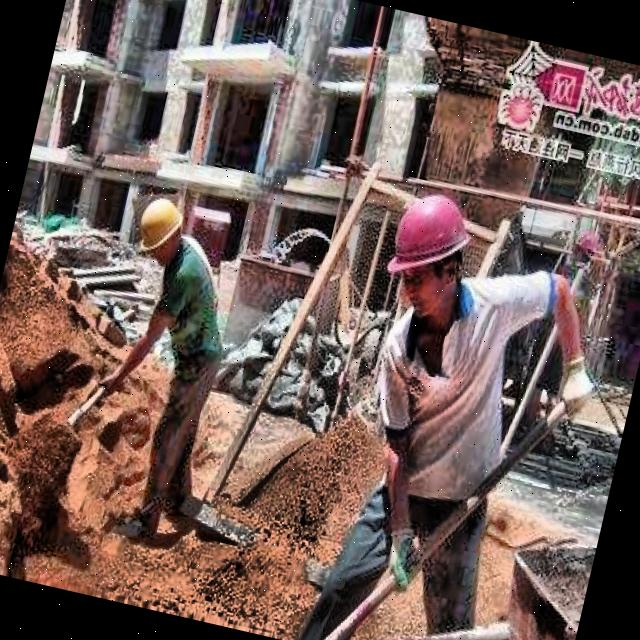helmet: (370, 176, 482, 320), (129, 192, 190, 262)
